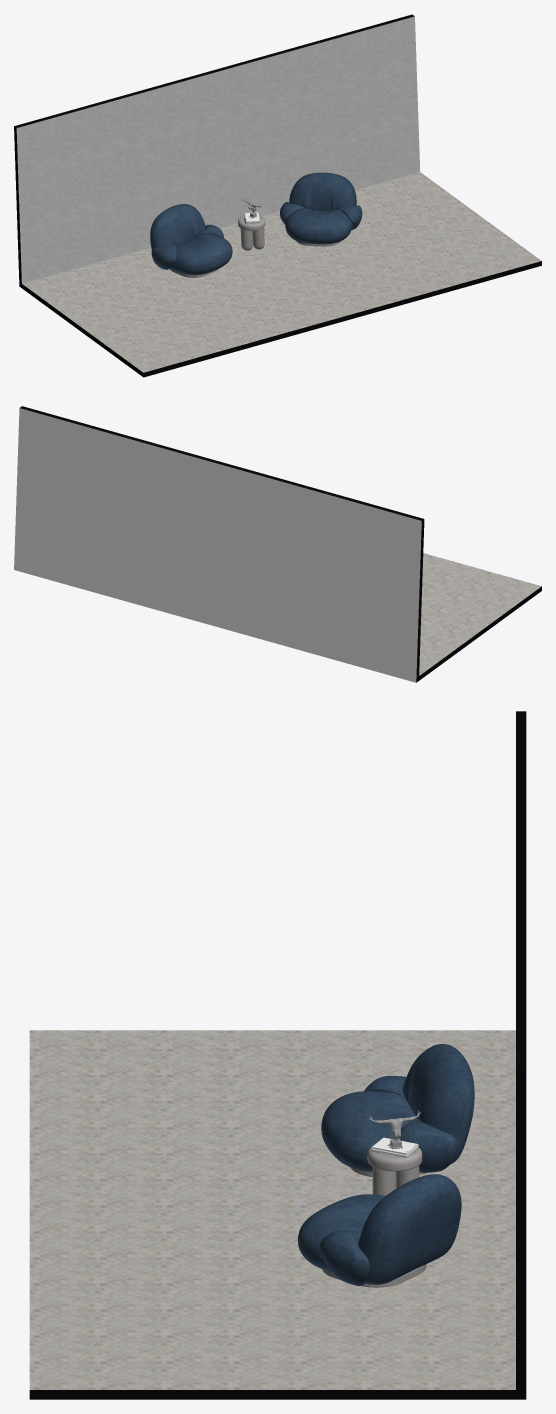
File: modern_sofa.glb
3 renders of one model, top to bottom at view 1: azimuth 30°, elevation 25°; view 2: azimuth 150°, elevation 25°; view 3: azimuth 270°, elevation 25°, orthographic. The views are drawn at different scales.
Visible parts, largest first — view 1: Mesh9_Cladding_Stucco_White_0, Mesh9_Tile_Travertine_2_inch_0, Mesh9_M_0137_Black_0, Mesh4_M_0_1____4_dy_1_0, Mesh2_M_0_1____4_dy_1_0, Mesh8_Material__2147461291asdasd_0; view 2: Mesh9_FrontColor_0, Mesh9_Tile_Travertine_2_inch_0, Mesh9_M_0137_Black_0; view 3: Mesh9_Tile_Travertine_2_inch_0, Mesh4_M_0_1____4_dy_1_0, Mesh9_M_0137_Black_0, Mesh2_M_0_1____4_dy_1_0, Mesh8_Material__2147461291asdasd_0.
Boxes of the visible parts, x1,y1,x2,y2 form: Mesh9_Cladding_Stucco_White_0: (16, 16, 420, 283); Mesh9_Tile_Travertine_2_inch_0: (22, 172, 541, 372); Mesh9_M_0137_Black_0: (14, 14, 541, 377); Mesh4_M_0_1____4_dy_1_0: (280, 172, 362, 244); Mesh2_M_0_1____4_dy_1_0: (150, 204, 232, 275); Mesh8_Material__2147461291asdasd_0: (238, 215, 265, 250); Mesh9_FrontColor_0: (14, 408, 421, 682); Mesh9_Tile_Travertine_2_inch_0: (419, 553, 541, 675); Mesh9_M_0137_Black_0: (20, 406, 541, 682); Mesh9_Tile_Travertine_2_inch_0: (29, 1030, 515, 1389); Mesh4_M_0_1____4_dy_1_0: (298, 1174, 461, 1286); Mesh9_M_0137_Black_0: (29, 711, 526, 1399); Mesh2_M_0_1____4_dy_1_0: (321, 1044, 474, 1172); Mesh8_Material__2147461291asdasd_0: (367, 1141, 422, 1195).
Size of the model in its own units: 0.0533 by 0.0222 by 0.0284.
13 materials, 8 textured.
